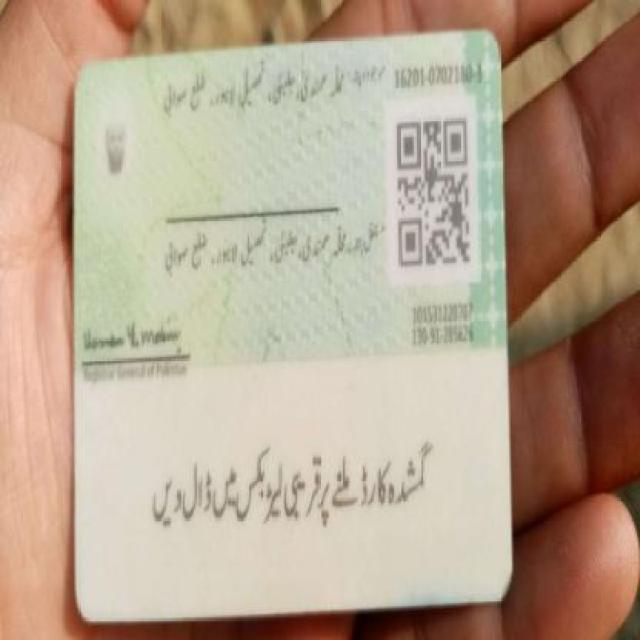Back: (64, 29, 518, 618)
